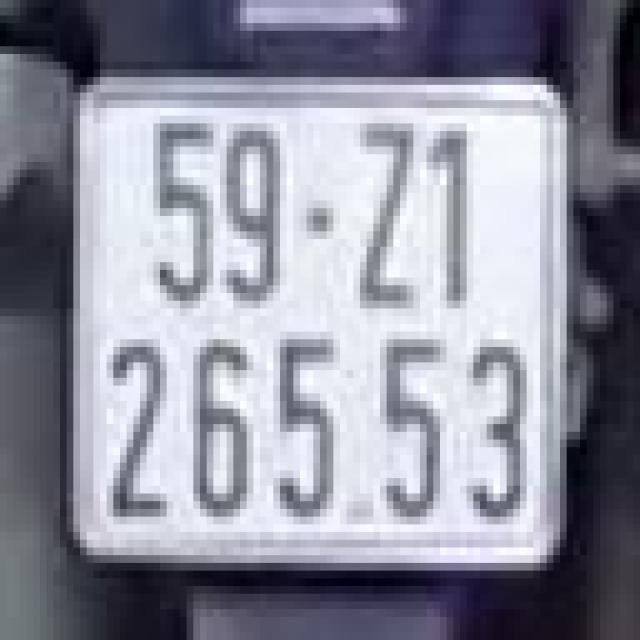1: (427, 120, 480, 312)
2: (100, 336, 180, 528)
3: (463, 328, 537, 536)
5: (374, 324, 454, 532), (147, 108, 220, 316), (270, 328, 343, 520)
6: (187, 324, 260, 516)
9: (220, 124, 287, 308)
Z: (346, 112, 426, 320)
